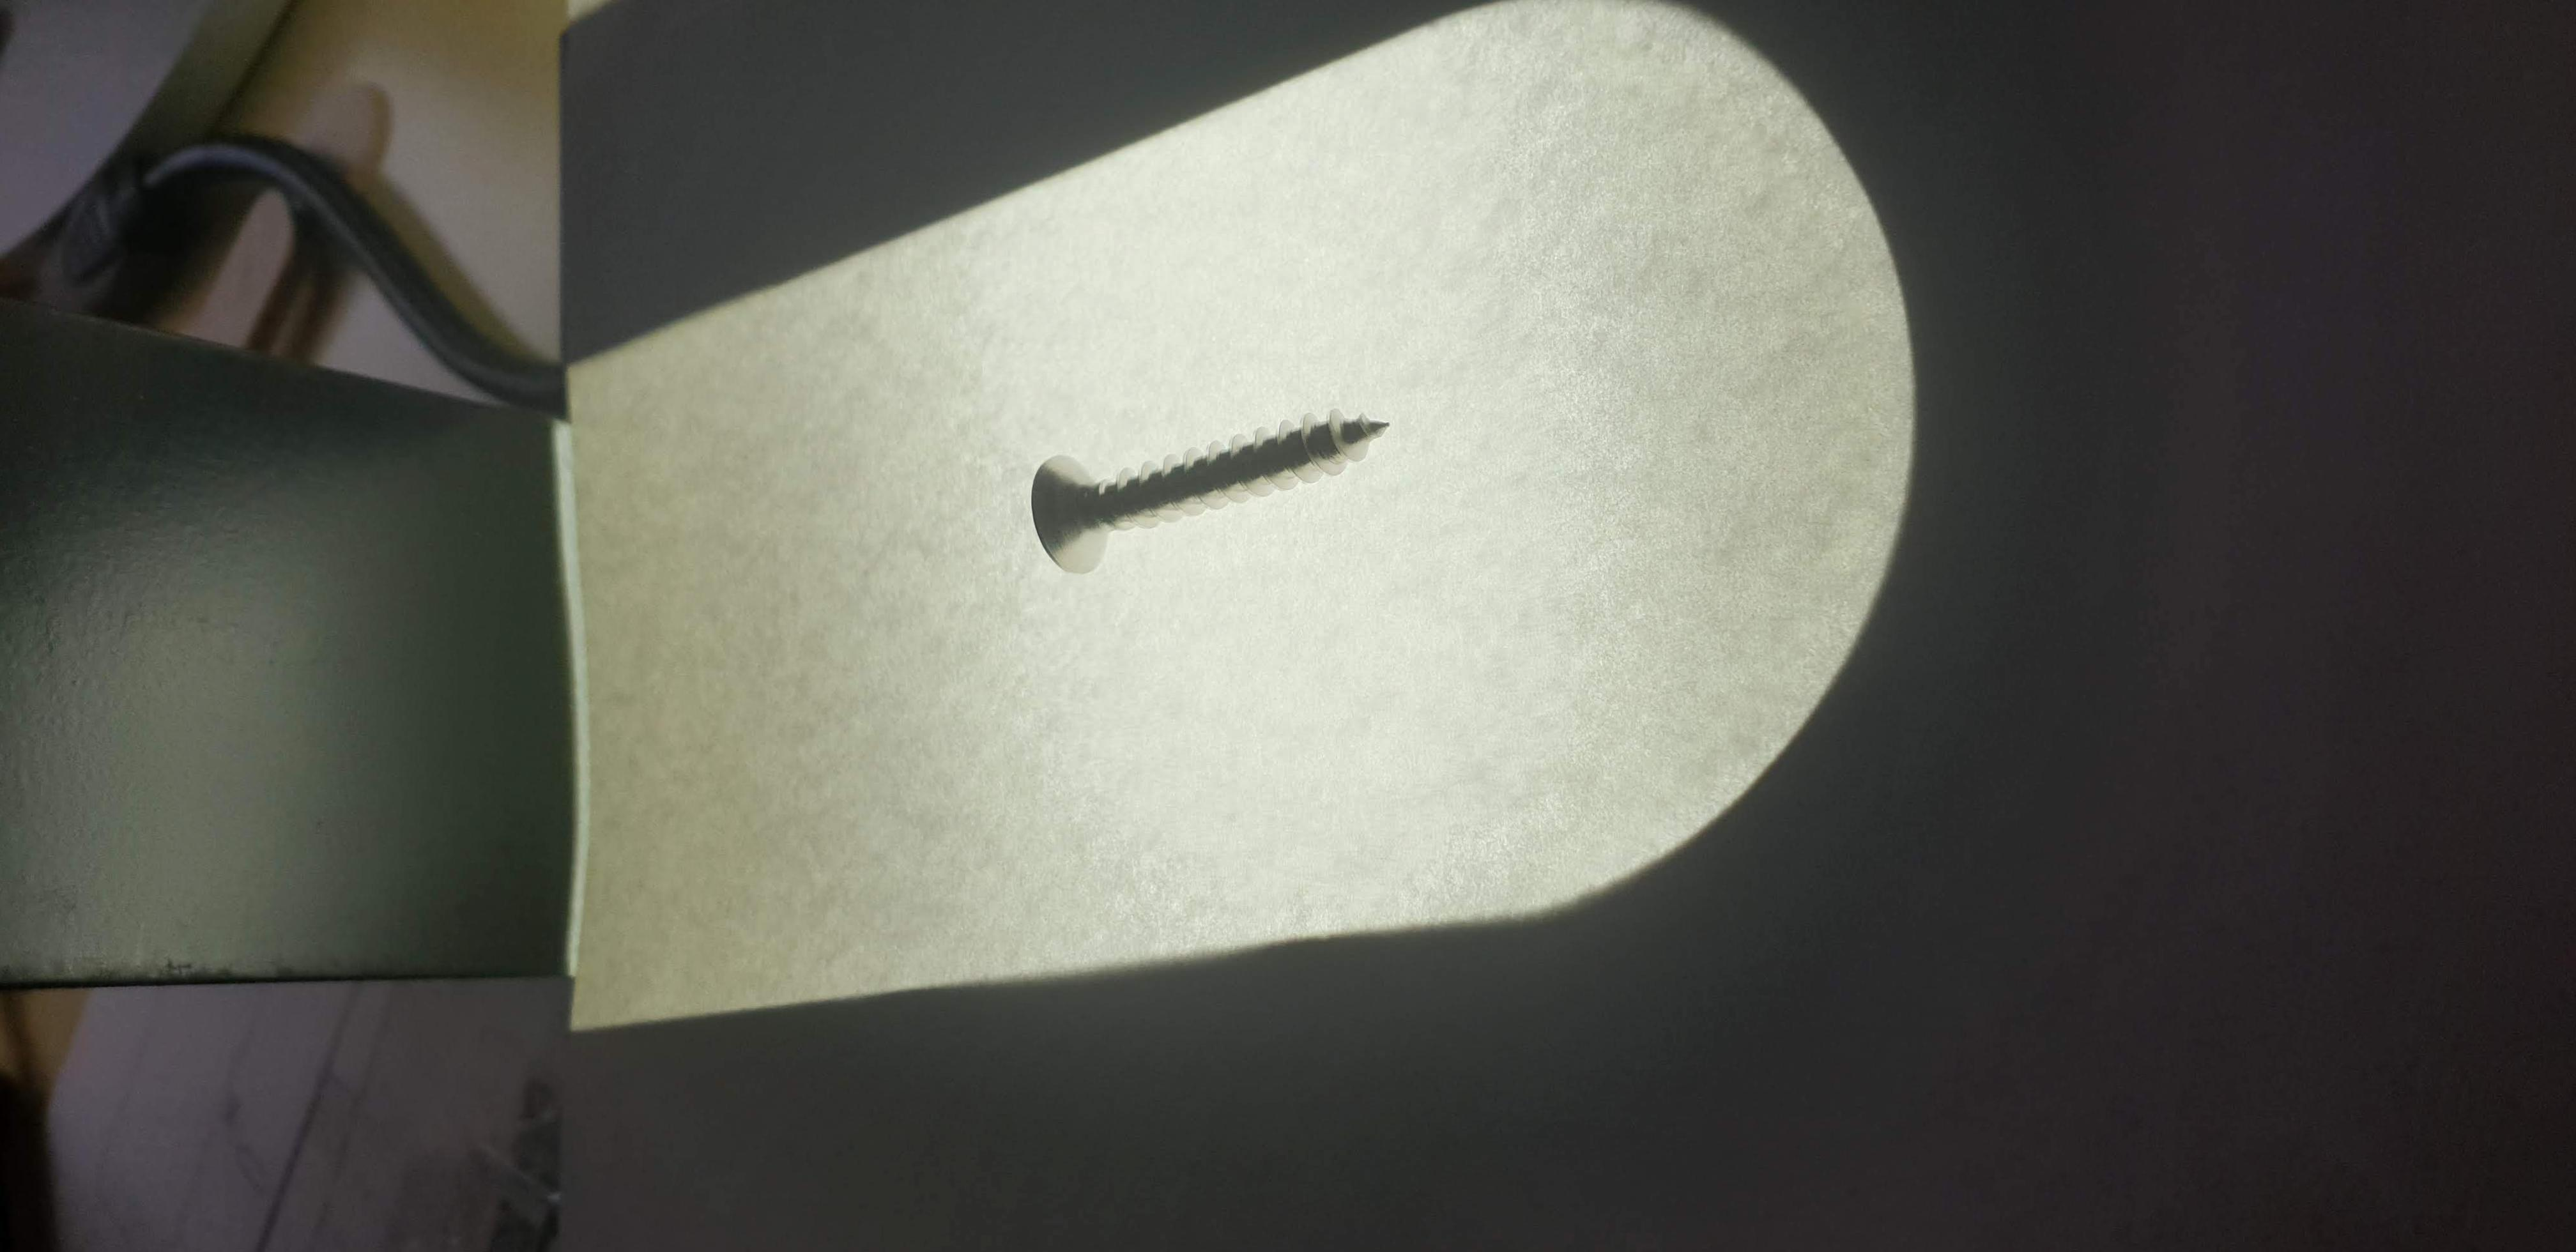S004: (989, 388, 1451, 614)
